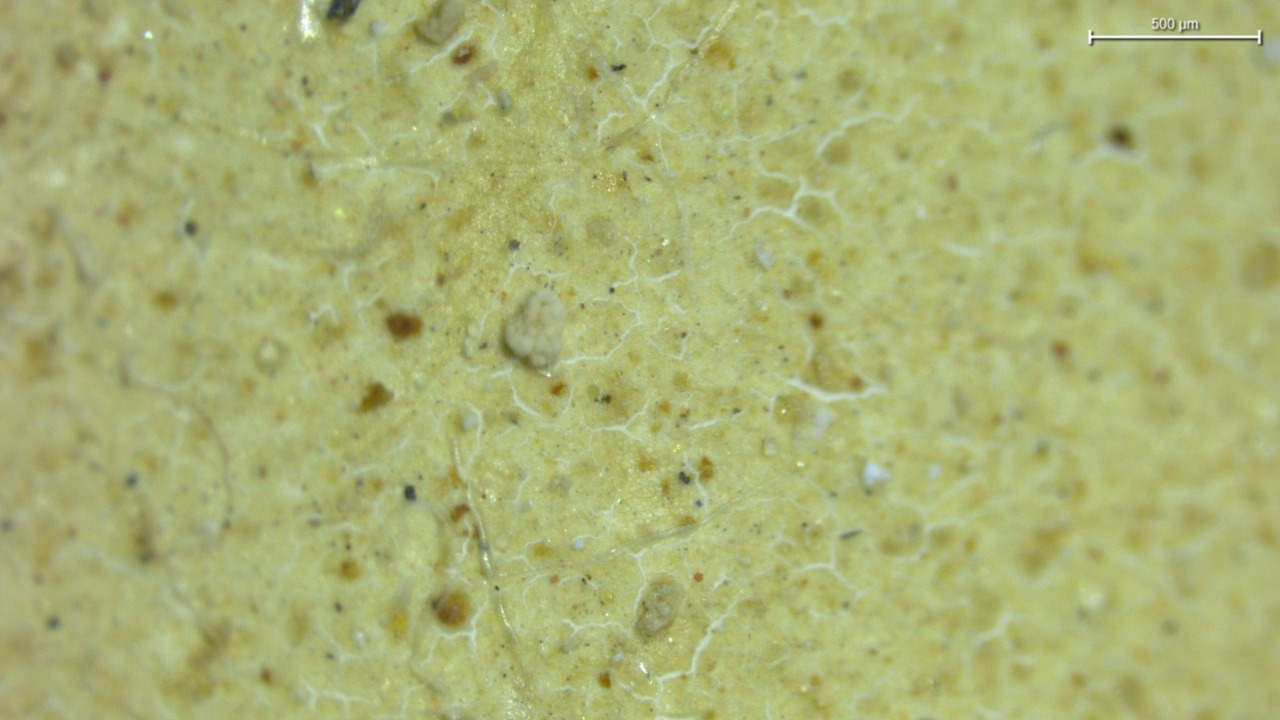microplastic_fragment: (503, 286, 565, 369), (862, 461, 890, 494)
